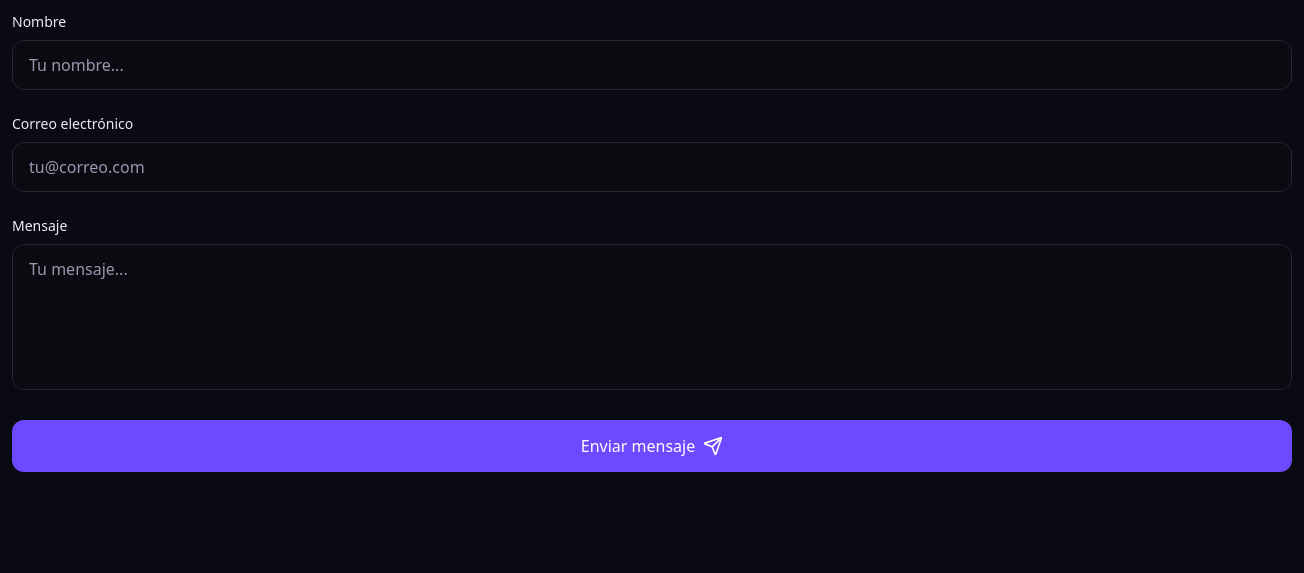
Scenario: ContactForm › shows its messages in the current language
Click the button "Enviar mensaje".
click(652, 446)  # box [12,420,1292,472]
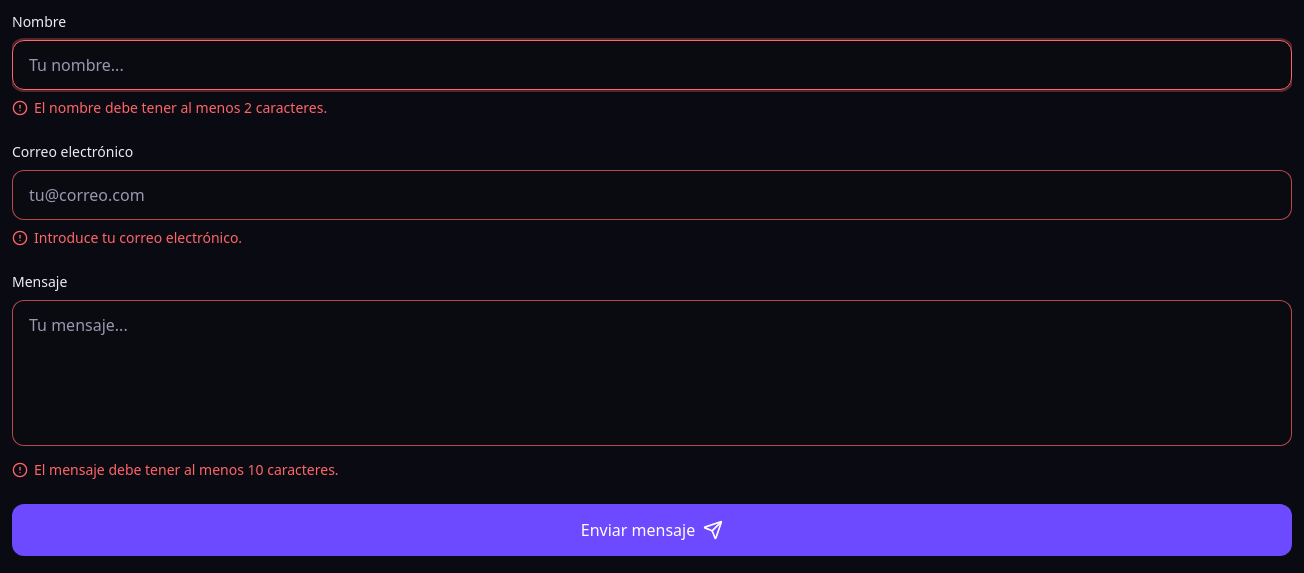
Expected: the text "Introduce tu correo electrónico." is shown, [12,228,242,247]
Type "Ada Lovelace" into the field labelled "Nombre".
click(652, 65); type("Ada Lovelace")  # box [12,40,1292,90]
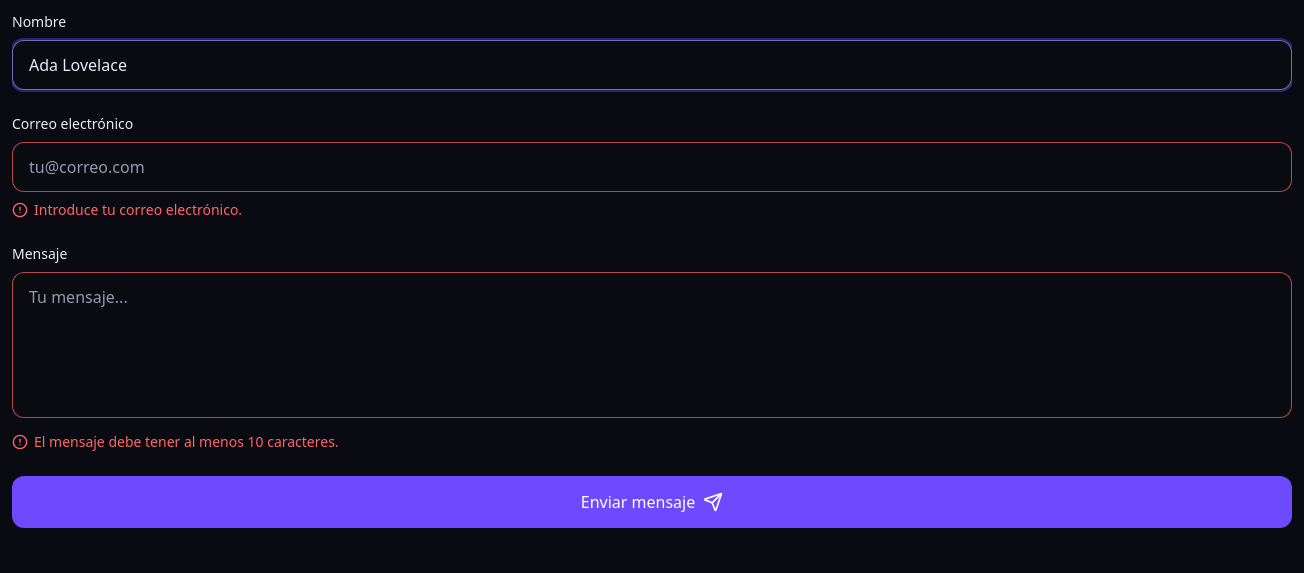
Type "ada@example.com" into the field labelled "Correo electrónico".
click(652, 167); type("ada@example.com")  # box [12,142,1292,192]
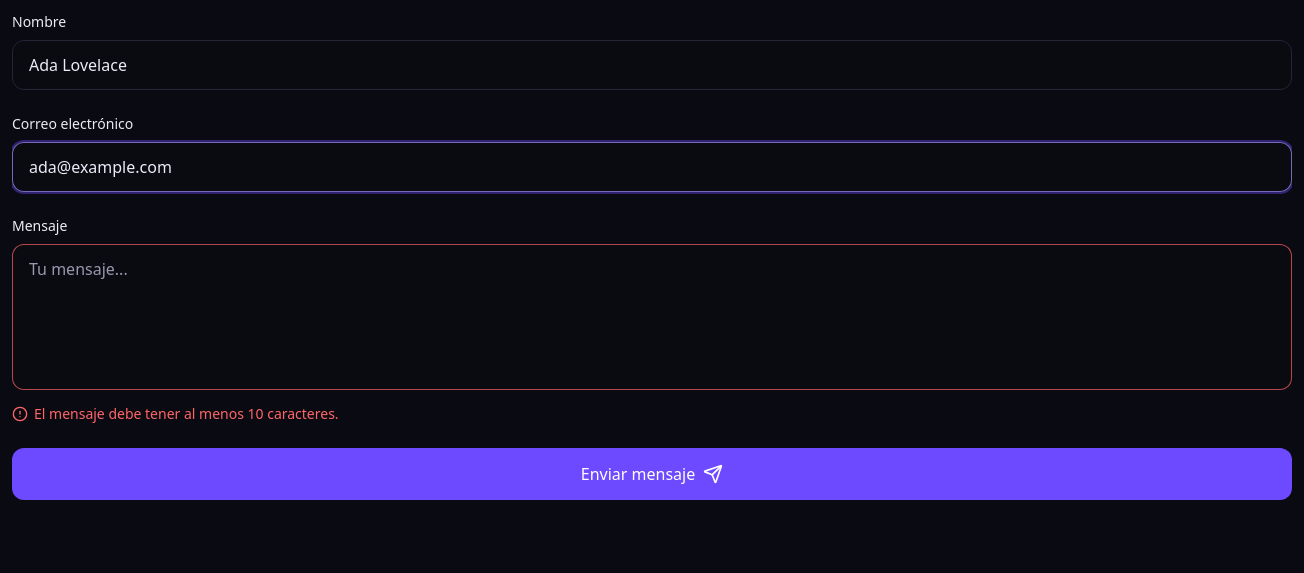
Type "Let's work together." into the text box labelled "Mensaje".
click(652, 317); type("Let's work together.")  # box [12,244,1292,390]
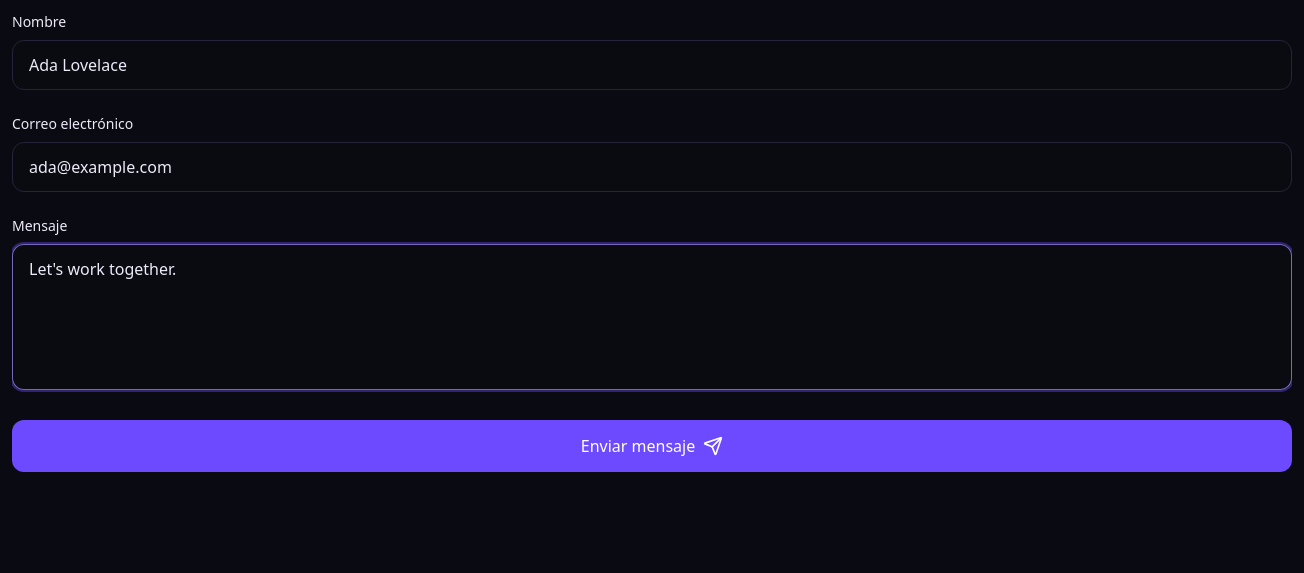
Click the button "Enviar mensaje".
click(652, 446)  # box [12,420,1292,472]
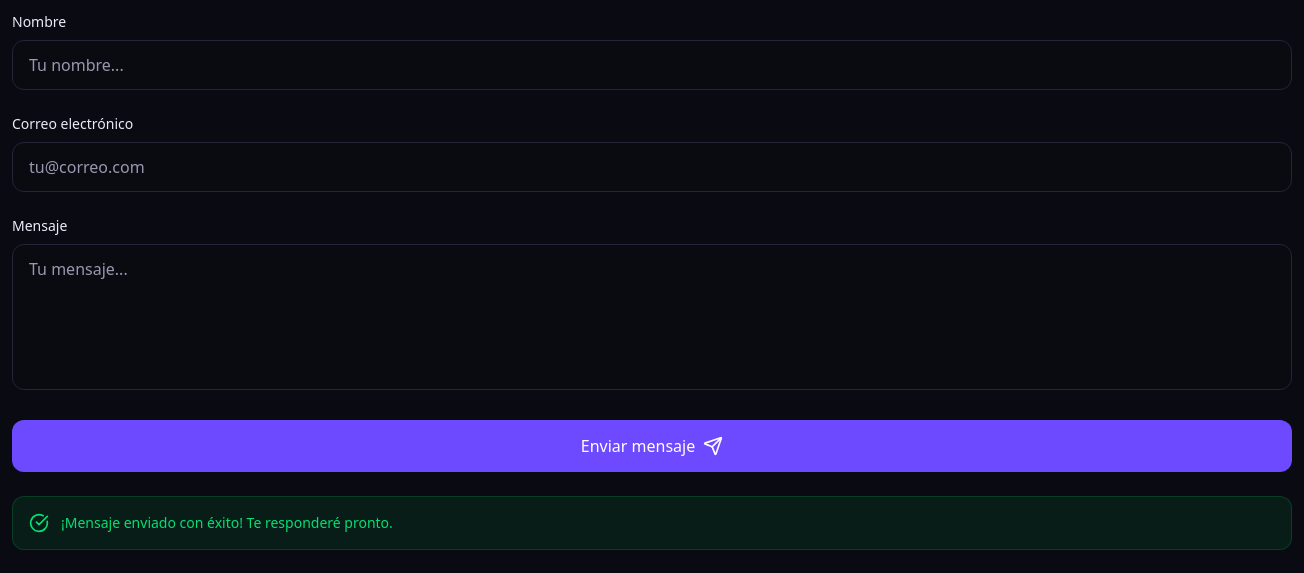
Expected: the message reads "¡Mensaje enviado con éxito! Te responderé pronto.", [61,513,393,532]
